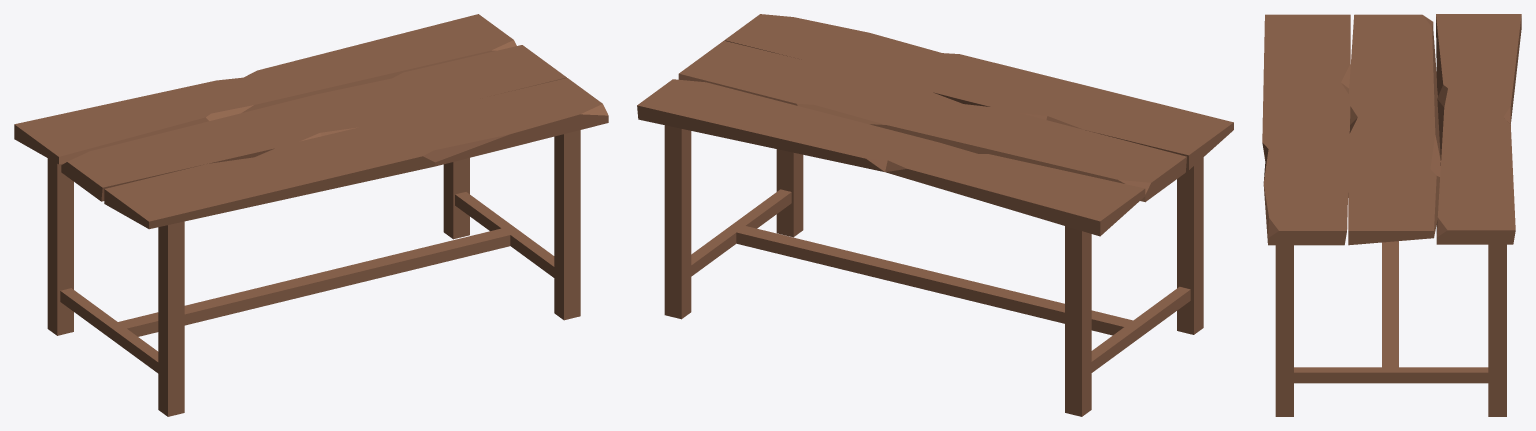
Rendered from meja jualan.fbx.
The picture shows the model from 3 angles, left to right: view 1: azimuth 30°, elevation 25°; view 2: azimuth 150°, elevation 25°; view 3: azimuth 270°, elevation 25°; orthographic projection. The views are drawn at different scales.
Visible parts, largest first — view 1: meja jualan; view 2: meja jualan; view 3: meja jualan.
Part boxes in pixels (x1,y1,x2,y2): meja jualan: (14, 14, 608, 416); meja jualan: (637, 14, 1233, 416); meja jualan: (1262, 14, 1521, 416).
Size of the model in its own units: 316 by 134 by 160.
